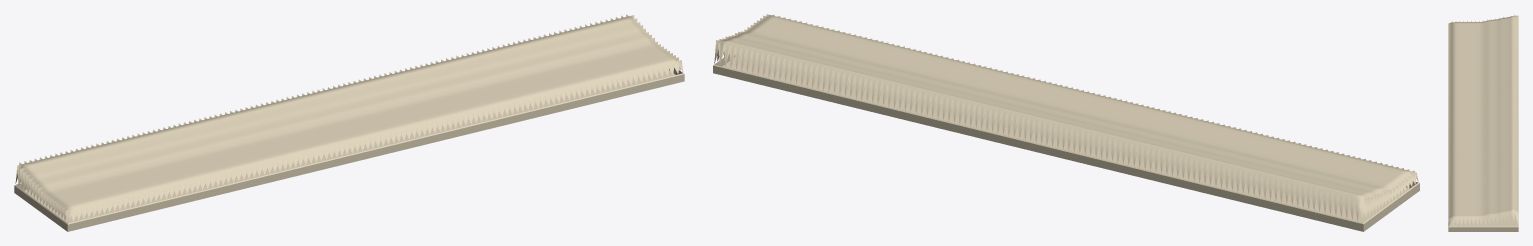
The model's file is mahsulot.glb.
3 views of the same model, side by side, from view 1: azimuth 30°, elevation 25°; view 2: azimuth 150°, elevation 25°; view 3: azimuth 270°, elevation 25° (orthographic). The views are drawn at different scales.
Visible parts, largest first — view 1: mahsulot; view 2: mahsulot; view 3: mahsulot.
Boxes of the visible parts, <box> form: mahsulot: <box>14,14,684,231</box>; mahsulot: <box>713,14,1419,231</box>; mahsulot: <box>1448,14,1518,231</box>.
Size of the model in its own units: 1.2 by 0.0551 by 0.18.
